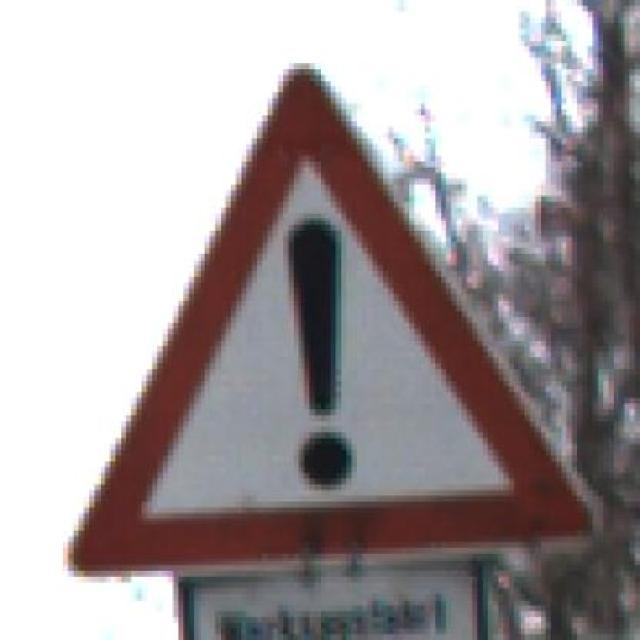Attention Please-: (42, 46, 636, 583)
